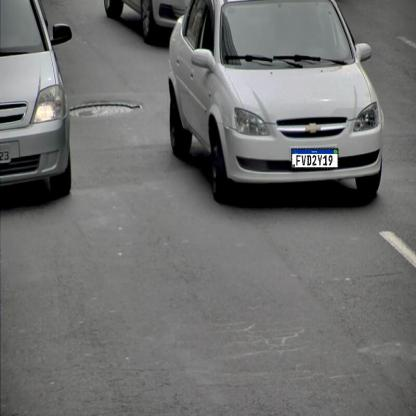PlacaM: (291, 148, 339, 168)
